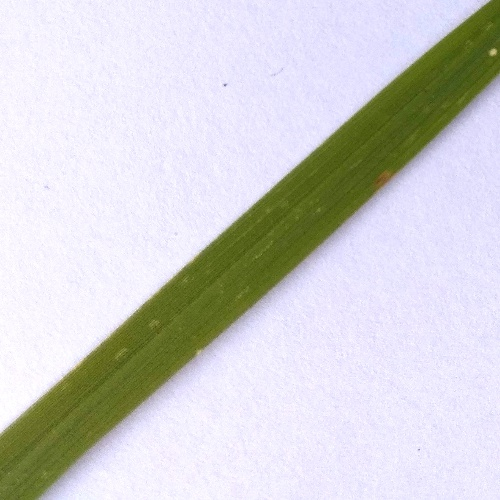Busuk Leher: (368, 161, 394, 190), (481, 45, 500, 63), (190, 345, 208, 363)
